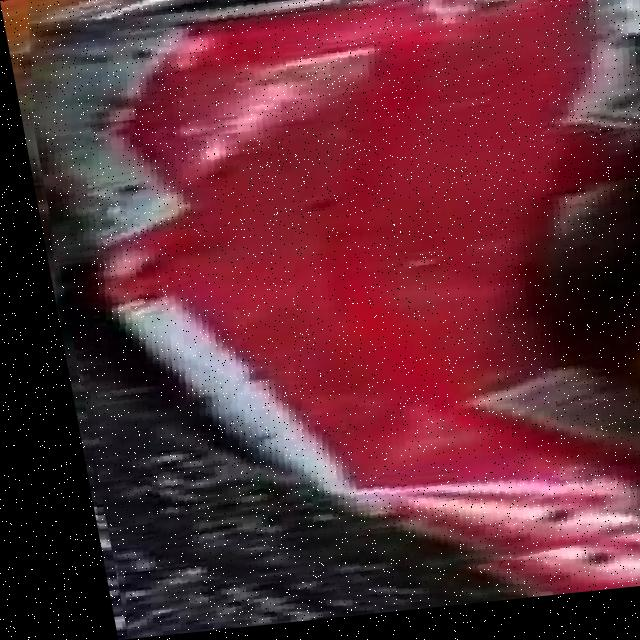can: (27, 0, 640, 594)
